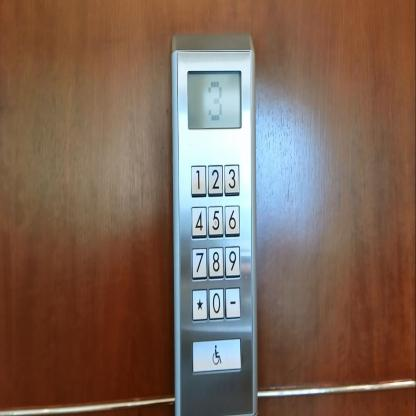-: (224, 285, 241, 321)
0: (207, 285, 225, 322)
1: (190, 162, 207, 199)
2: (207, 162, 224, 198)
3: (224, 162, 240, 198)
4: (191, 204, 208, 240)
5: (207, 204, 224, 240)
6: (224, 202, 240, 238)
7: (191, 245, 208, 281)
8: (207, 244, 224, 280)
9: (224, 243, 241, 279)
CH: (191, 336, 242, 376)
led: (185, 67, 242, 132)
s: (191, 287, 208, 323)
